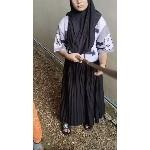Golok: (69, 53, 117, 79)
